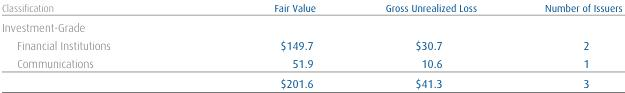table: (0, 1, 621, 89)
table column: (0, 1, 193, 89), (349, 1, 510, 89), (193, 1, 349, 89), (510, 1, 621, 89)
table column header: (0, 1, 621, 16)
table projected row header: (0, 16, 621, 36)
table row: (0, 16, 621, 36), (0, 54, 621, 73), (0, 36, 621, 54), (0, 73, 621, 89), (0, 1, 621, 16)
